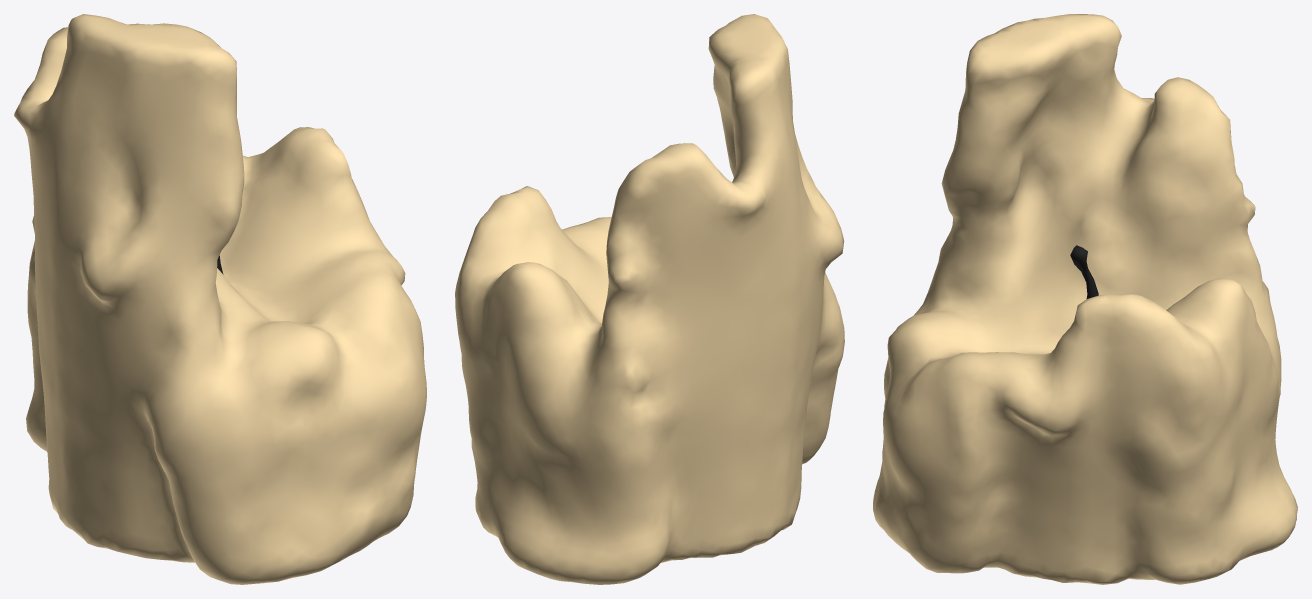
The model's file is SM_Melted_Candle_04.fbx.
3 views of the same model, side by side, from view 1: azimuth 30°, elevation 25°; view 2: azimuth 150°, elevation 25°; view 3: azimuth 270°, elevation 25° (orthographic). The views are drawn at different scales.
Parts seen in each view (by area): view 1: Candle_Export; view 2: Candle_Export; view 3: Candle_Export.
Part boxes in pixels (x1,y1,x2,y2): Candle_Export: (14, 14, 426, 584); Candle_Export: (455, 14, 844, 584); Candle_Export: (873, 14, 1297, 584).
Size of the model in its own units: 6.92 by 10.18 by 8.41.
